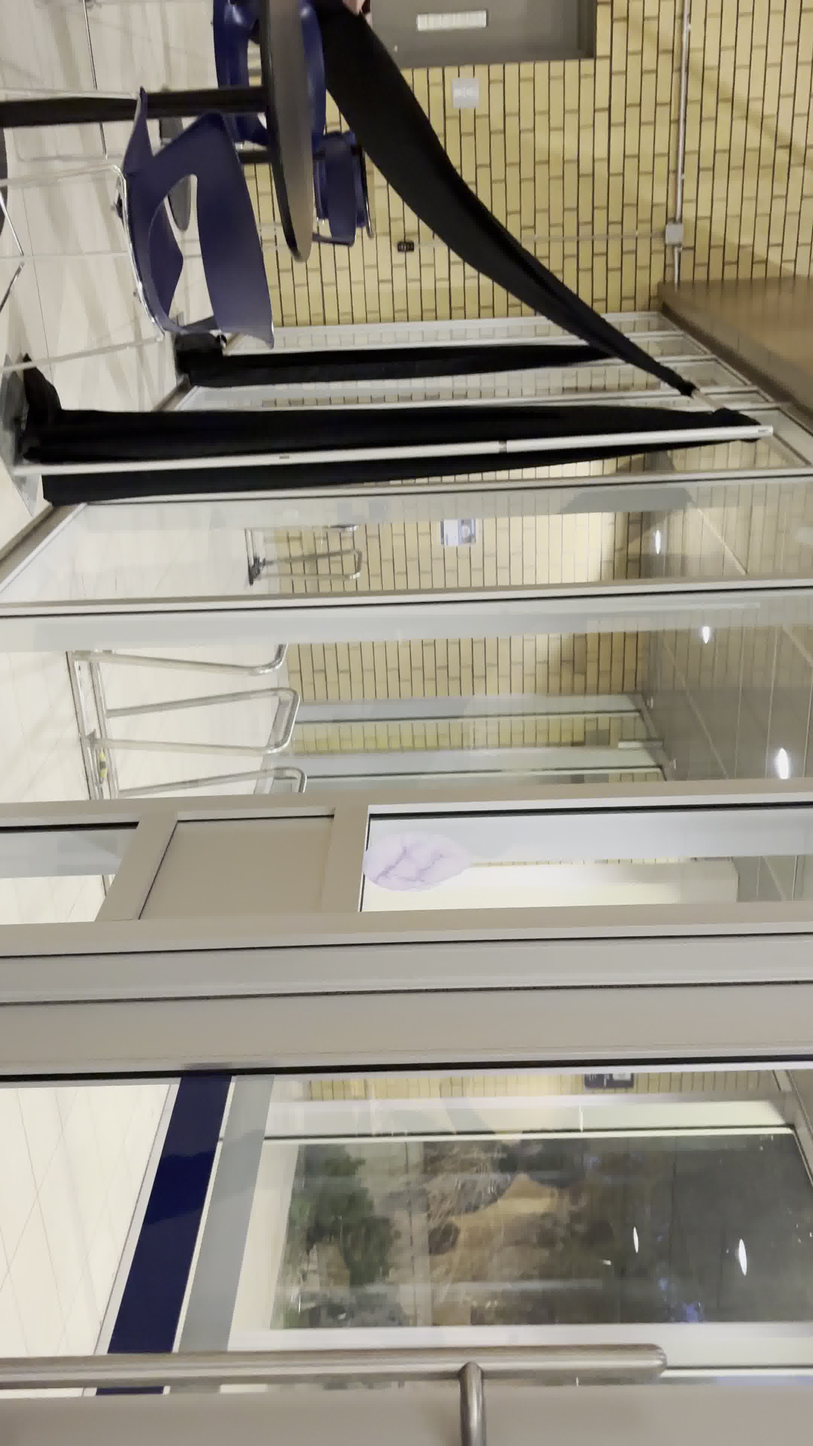Target: (360, 828, 475, 894)
